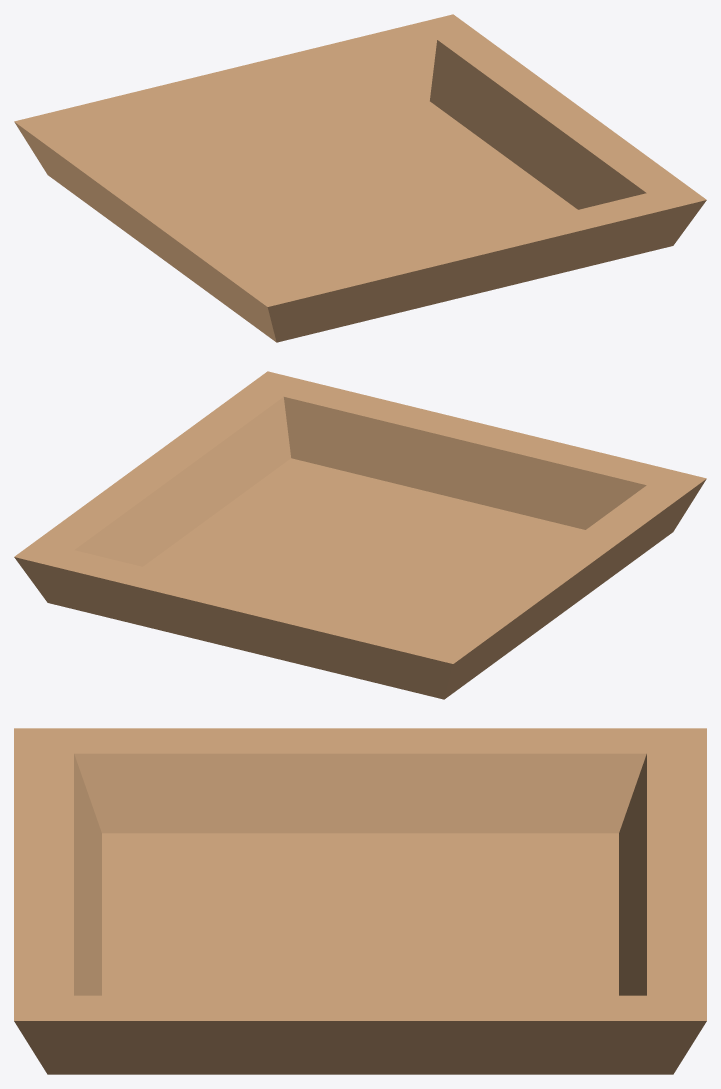
Rendered from tray_withOutFood.fbx.
3 views of the same model, one above another, from view 1: azimuth 30°, elevation 25°; view 2: azimuth 150°, elevation 25°; view 3: azimuth 270°, elevation 25° (orthographic). The views are drawn at different scales.
Visible parts, largest first — view 1: tray_withOutFood; view 2: tray_withOutFood; view 3: tray_withOutFood.
Part boxes in pixels (x1,y1,x2,y2): tray_withOutFood: (14, 14, 706, 342); tray_withOutFood: (14, 371, 706, 699); tray_withOutFood: (14, 728, 706, 1074).
Bounding box in the file's own units: 1.41 × 0.1995 × 1.41.
